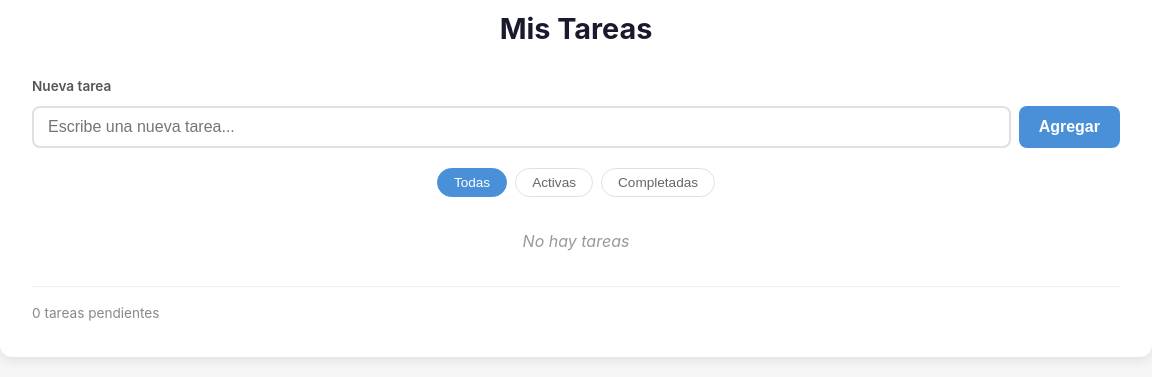
it: TodoApp › Cuando el usuario agrega una nueva tarea › deberia actualizar el contador de tareas pendientes
In the field labelled "Nueva tarea": (521, 127) [32, 106, 1011, 148], type "Ir al gimnasio por la manana"
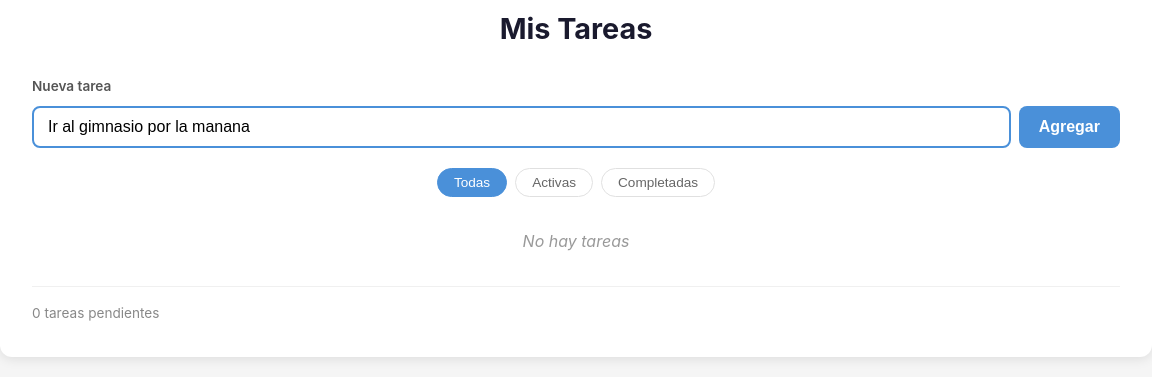
Click the button "Agregar": (1069, 127) [1019, 106, 1120, 148]
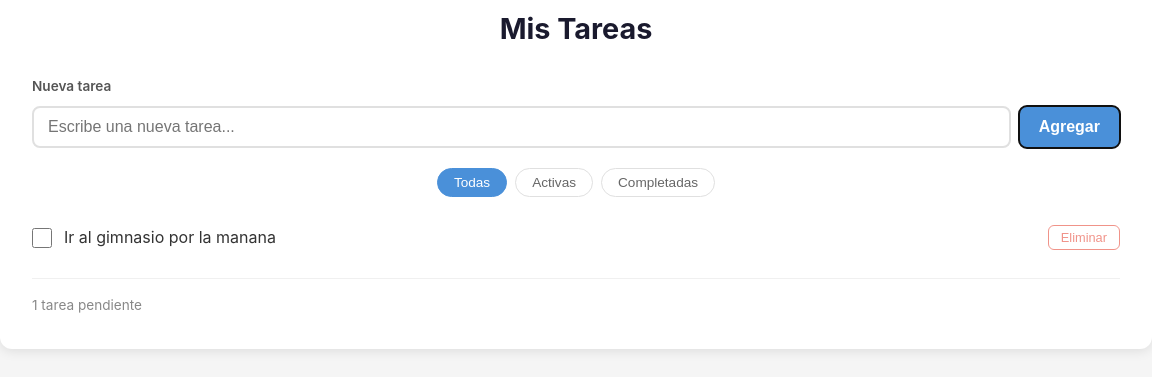
Expected: the text "1 tarea pendiente" is shown, [32, 295, 142, 317]
